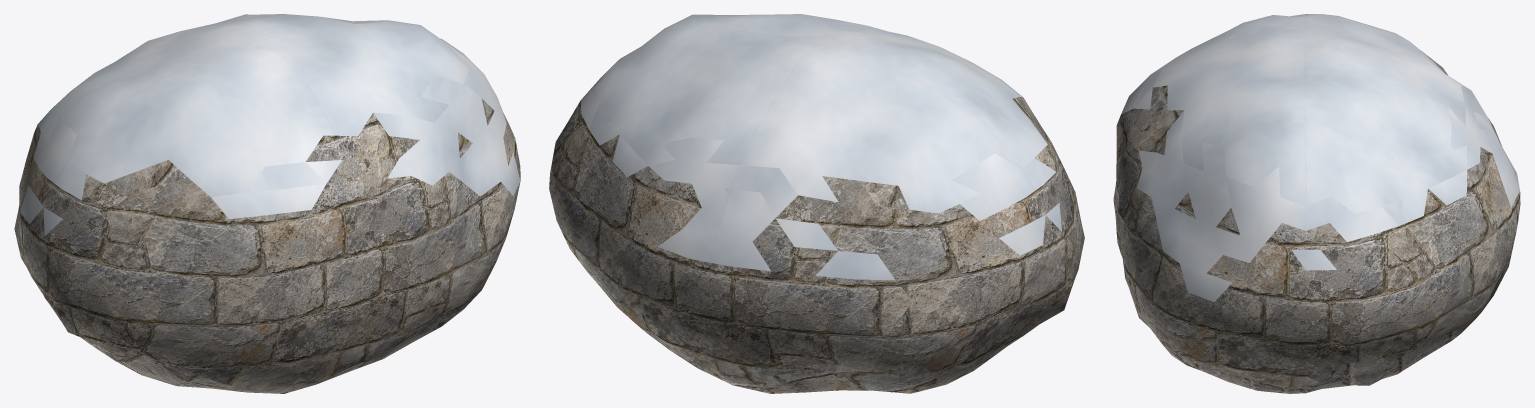
Rendered from snow-boulder-v01.glb.
3 views of the same model, side by side, from view 1: azimuth 30°, elevation 25°; view 2: azimuth 150°, elevation 25°; view 3: azimuth 270°, elevation 25° (orthographic). The views are drawn at different scales.
Visible parts, largest first — view 1: boulder; view 2: boulder; view 3: boulder.
Boxes of the visible parts, <box> form: boulder: <box>14,14,520,393</box>; boulder: <box>549,14,1084,393</box>; boulder: <box>1113,14,1520,393</box>.
Bounding box in the file's own units: 2.72 × 1.65 × 2.12.
2 materials, 2 textured.
